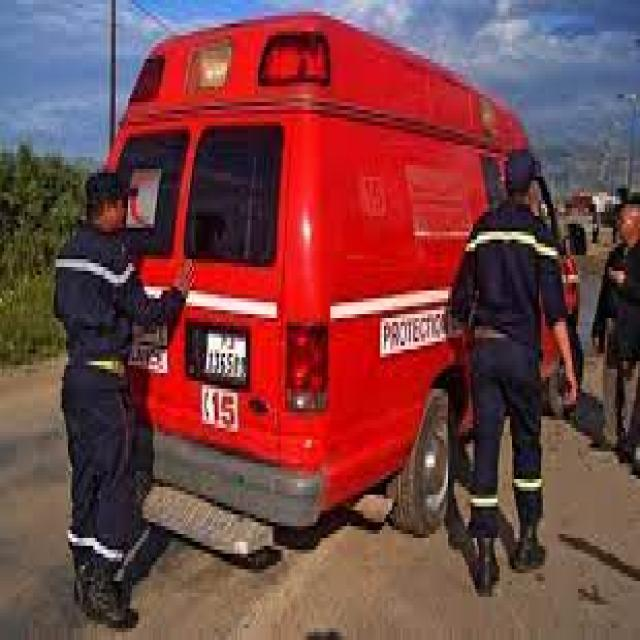ambulance: (110, 13, 573, 550)
